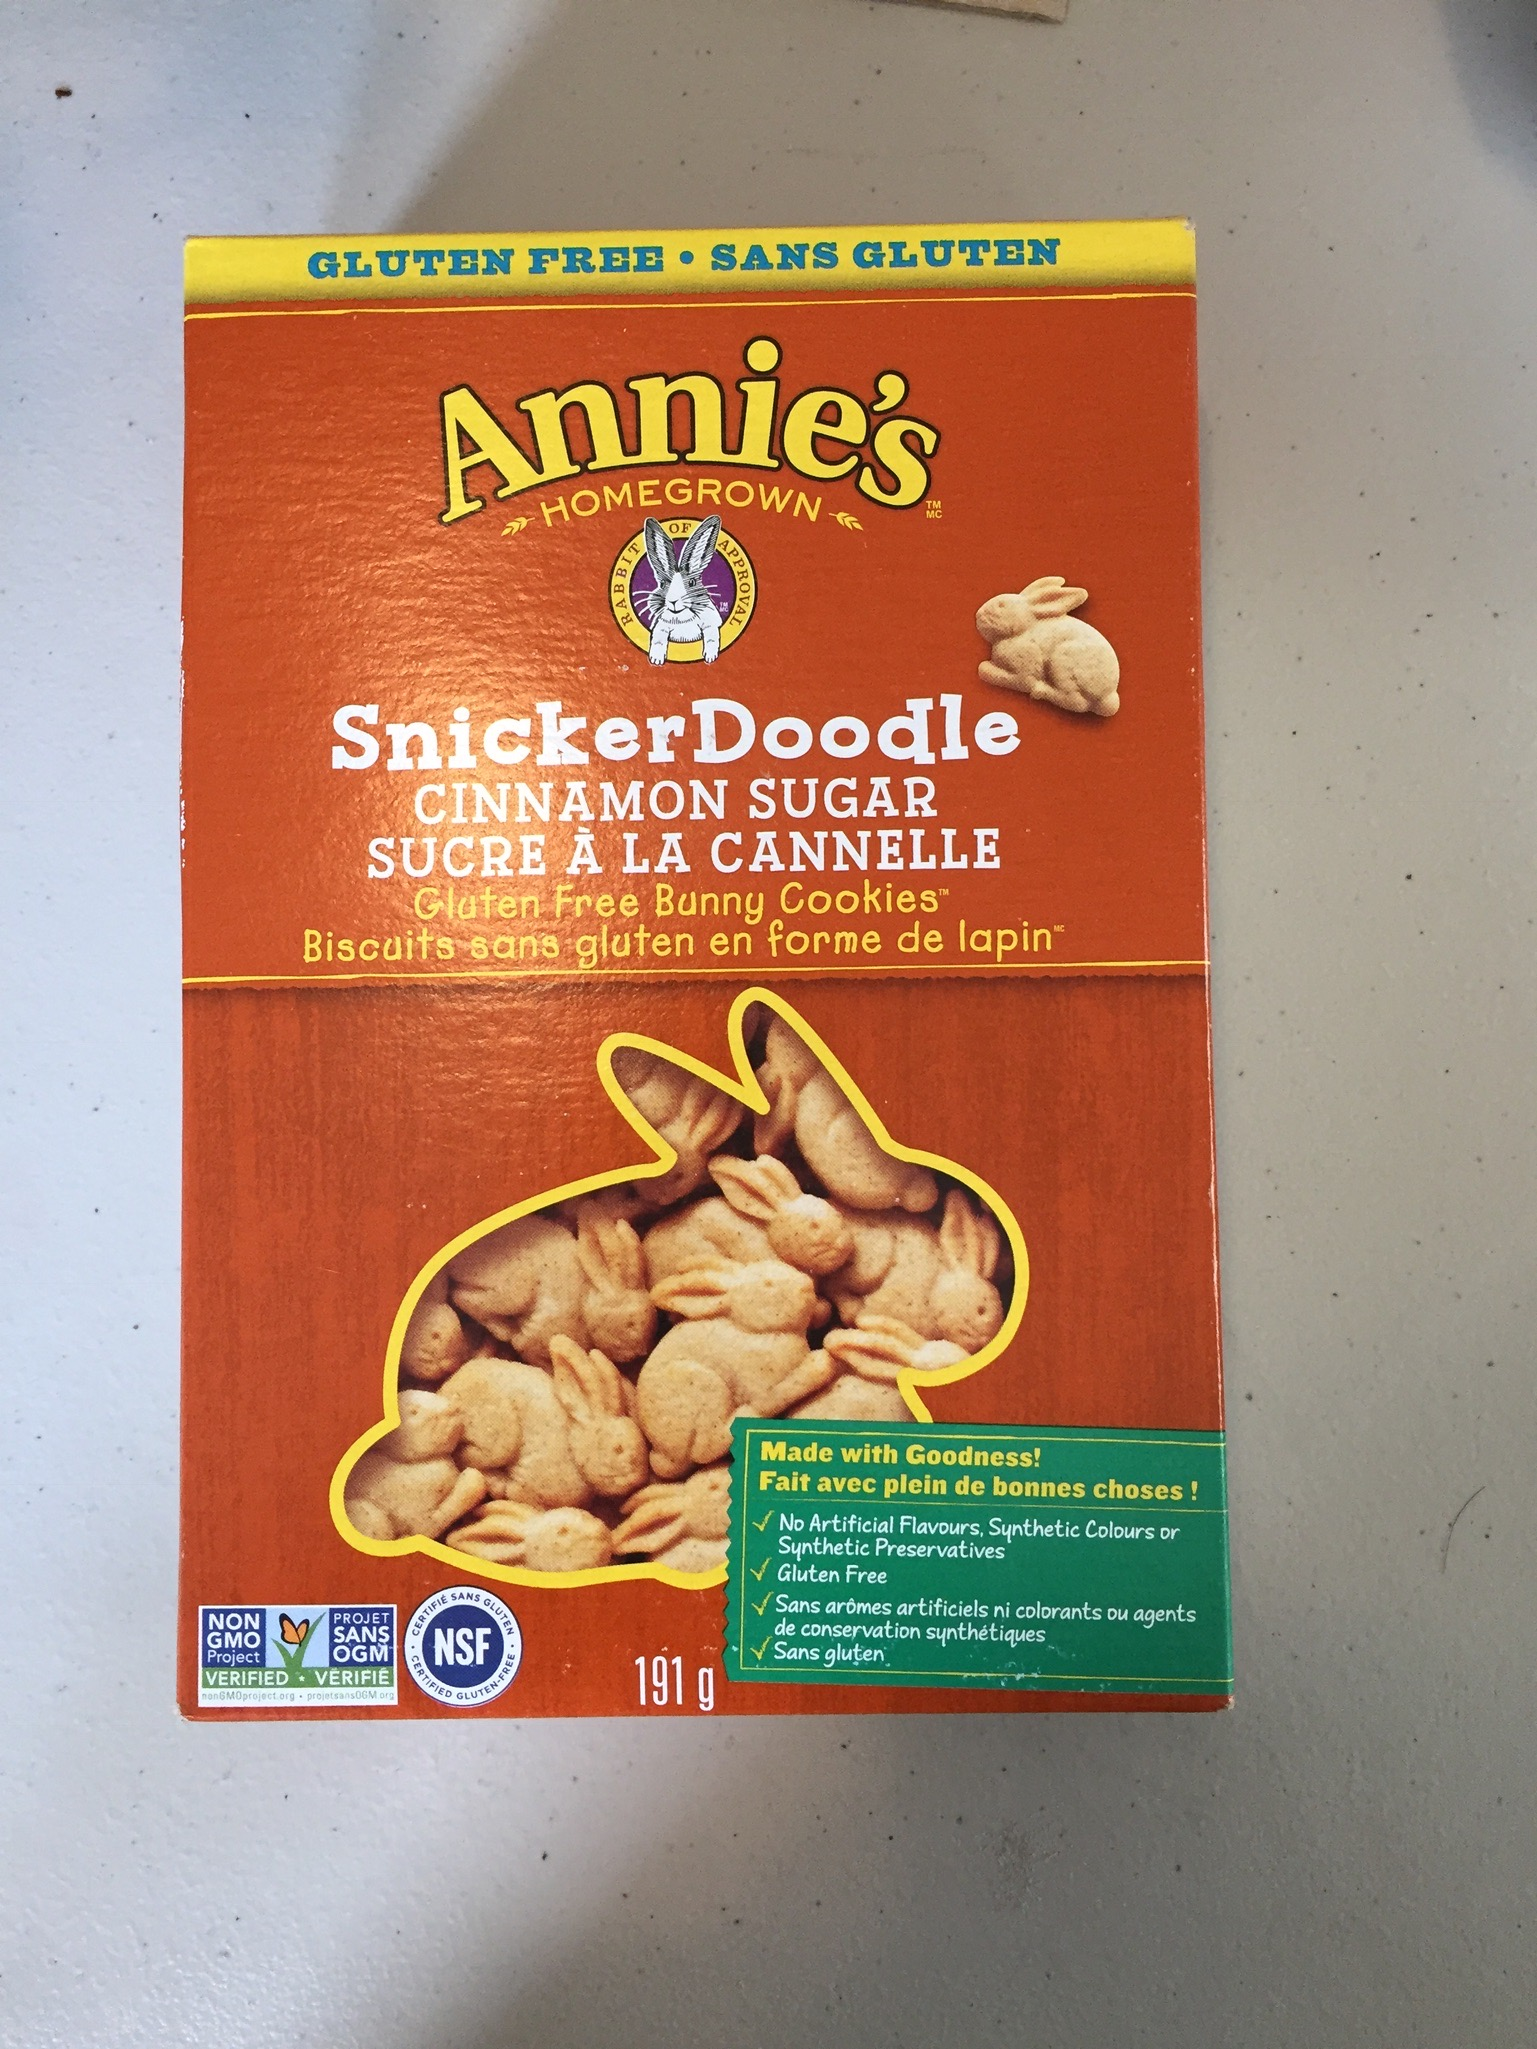annies_snickerdoodles_cinnamon_sugar: (199, 242, 1196, 1682)
